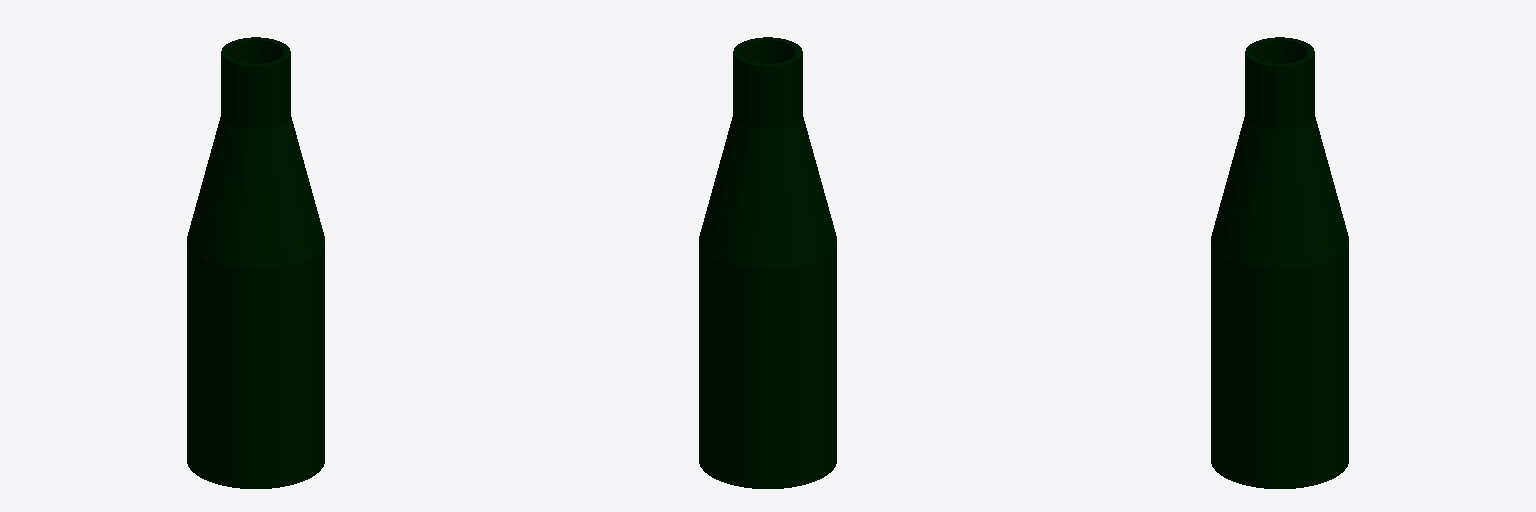
File: bottle.obj
3 renders of one model, left to right at view 1: azimuth 30°, elevation 25°; view 2: azimuth 150°, elevation 25°; view 3: azimuth 270°, elevation 25°, orthographic.
Parts seen in each view (by area): view 1: Bottle; view 2: Bottle; view 3: Bottle.
Part boxes in pixels (bbox=[...]): Bottle: bbox=[187, 37, 324, 488]; Bottle: bbox=[699, 37, 836, 488]; Bottle: bbox=[1211, 37, 1348, 488].
Size of the model in its own units: 200 by 650 by 200.